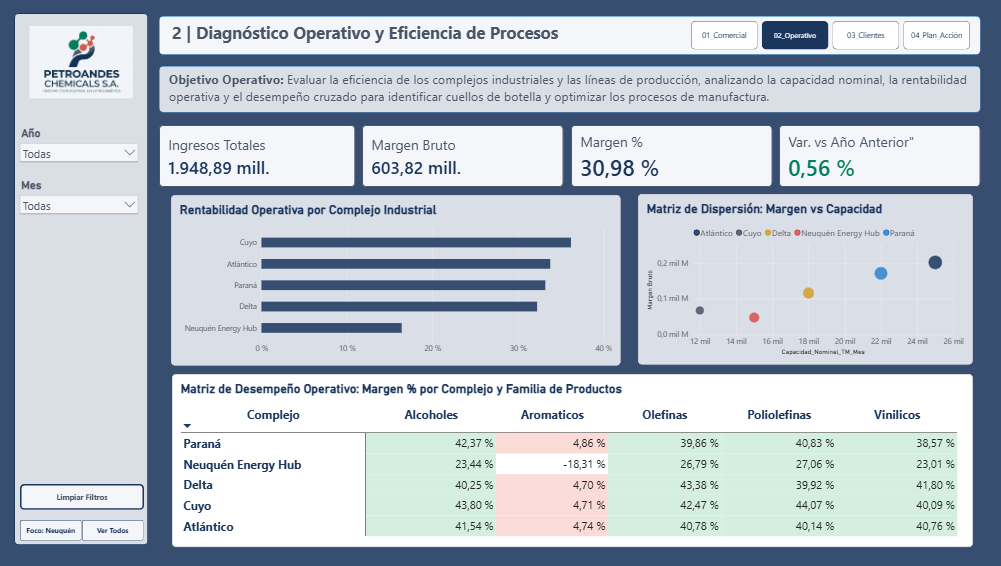

The dashboard page shown, as its layout file describes it:
{"tool":"powerbi","page":{"name":"02_Operativo","canvas":[1920,1080],"ordinal":2},"visuals":[{"type":"shape","box":[300,25,1590,75],"z":0},{"type":"shape","box":[300,121,1590,90],"z":0,"group":"g1"},{"type":"shape","title":"Filtros Globales","box":[20,20,260,1030],"z":1000},{"type":"textbox","box":[320,131,1560,65],"z":1000,"group":"g1"},{"type":"slicer","fields":{"Values":["Dim_Calendario.Año"]},"box":[25,240,240,80.8],"z":2000},{"type":"slicer","fields":{"Values":["Dim_Calendario.Nombre_Mes"]},"box":[25,340,240,80],"z":3000},{"type":"image","box":[20,45,260,140],"z":4000},{"type":"actionButton","title":"Limpiar Filtros","box":[30,930,240,50],"z":5000},{"type":"cardVisual","fields":{"Data":["_Medidas.Ingresos Totales"]},"box":[300,236.1,380,120],"z":6000},{"type":"cardVisual","fields":{"Data":["_Medidas.Margen Bruto"]},"box":[693.3,236.1,390,120],"z":7000},{"type":"cardVisual","fields":{"Data":["_Medidas.Margen %"]},"box":[1096.7,236.1,390,120],"z":8000},{"type":"cardVisual","fields":{"Data":["_Medidas.Variación Margen YoY %"]},"box":[1500,236.1,390,120],"z":9000},{"type":"group","id":"g1","title":"Grupo 1","box":[300,121,1588.9,91.7],"z":10000},{"type":"textbox","box":[325,35,1510,75],"z":11000},{"type":"pageNavigator","box":[1330,35,540,55],"z":12000},{"type":"clusteredBarChart","title":"Rentabilidad Operativa por Complejo Industrial","fields":{"Category":["Dim_Planta.Complejo"],"Y":["_Medidas.Margen %"]},"box":[324,371.6,870,330],"z":13000},{"type":"scatterChart","title":"Matriz de Dispersión: Margen vs Capacidad","fields":{"Series":["Dim_Planta.Complejo"],"Size":["_Medidas.Volumen Total (TM)"],"X":["Dim_Planta.Capacidad_Nominal_TM_Mes"],"Y":["_Medidas.Margen Bruto"]},"box":[1227.5,370.6,647.5,330],"z":14000},{"type":"pivotTable","title":"Matriz de Desempeño Operativo: Margen % por Complejo y Familia de Productos","fields":{"Columns":["Dim_Productos.Familia"],"Rows":["Dim_Planta.Complejo"],"Values":["_Medidas.Margen %"]},"box":[325,718.1,1550,335],"z":15000},{"type":"actionButton","box":[30,1000,119,40],"z":16000},{"type":"actionButton","box":[150,1000,119,40],"z":17000}]}

Visuals, with their boxes in screenshot pixels (x1, y1, x2, y2), scaled from the page's 1920x1080 canvas onto the 1001x566 screenshot:
shape: left=156, top=13, right=985, bottom=52
shape: left=156, top=63, right=985, bottom=111
"Filtros Globales" shape: left=10, top=10, right=146, bottom=550
textbox: left=167, top=69, right=980, bottom=103
slicer - Dim_Calendario.Año: left=13, top=126, right=138, bottom=168
slicer - Dim_Calendario.Nombre_Mes: left=13, top=178, right=138, bottom=220
image: left=10, top=24, right=146, bottom=97
"Limpiar Filtros" actionButton: left=16, top=487, right=141, bottom=514
cardVisual - _Medidas.Ingresos Totales: left=156, top=124, right=355, bottom=187
cardVisual - _Medidas.Margen Bruto: left=361, top=124, right=565, bottom=187
cardVisual - _Medidas.Margen %: left=572, top=124, right=775, bottom=187
cardVisual - _Medidas.Variación Margen YoY %: left=782, top=124, right=985, bottom=187
"Grupo 1" group: left=156, top=63, right=985, bottom=111
textbox: left=169, top=18, right=957, bottom=58
pageNavigator: left=693, top=18, right=975, bottom=47
"Rentabilidad Operativa por Complejo Industrial" clusteredBarChart: left=169, top=195, right=622, bottom=368
"Matriz de Dispersión: Margen vs Capacidad" scatterChart: left=640, top=194, right=978, bottom=367
"Matriz de Desempeño Operativo: Margen % por Complejo y Familia de Productos" pivotTable: left=169, top=376, right=978, bottom=552
actionButton: left=16, top=524, right=78, bottom=545
actionButton: left=78, top=524, right=140, bottom=545
